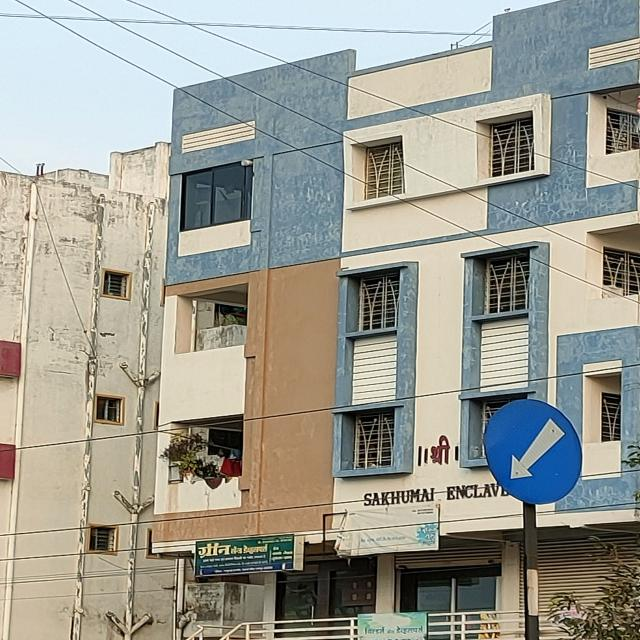COMPULSARY_KEEP_LEFT: (472, 393, 594, 513)
